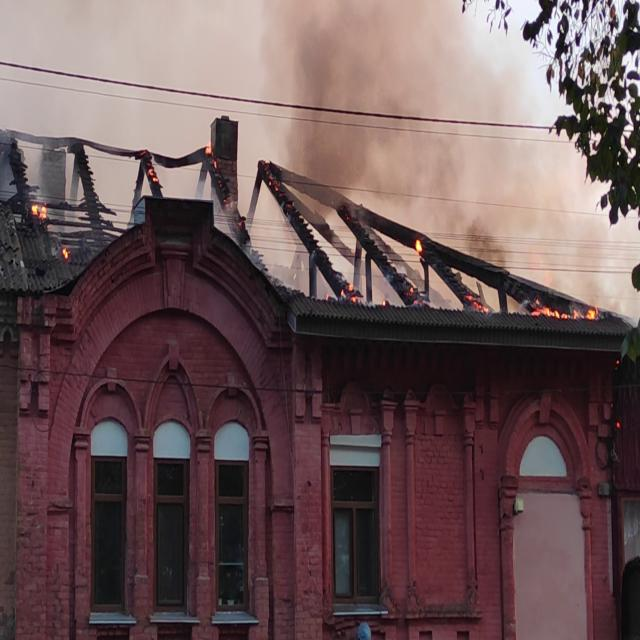fire: (523, 284, 609, 327), (31, 195, 74, 266), (198, 136, 236, 213)
smoke: (276, 0, 392, 190)
